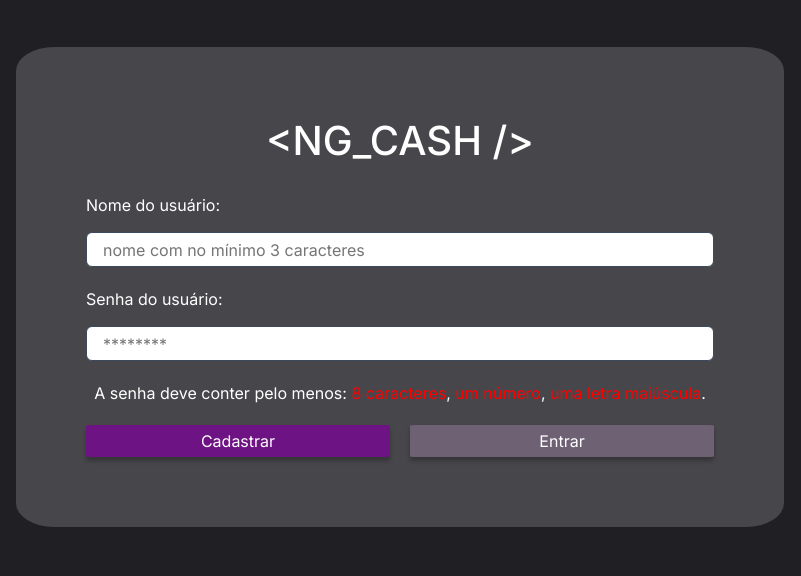
Testes da tela de Login › Verifica a renderização da mensagem de usuário inválido
Check: the password field with test id "login-password" is shown, box [86,326,714,361]
Type "wrong-user" into the field with test id "login-username" at (400, 250), box [86,232,714,267]
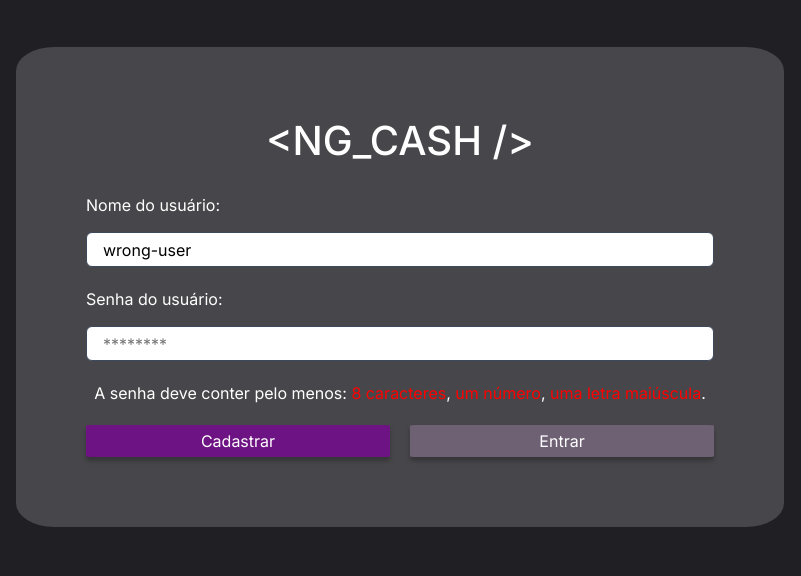
Type "user1234Wrong" into the password field with test id "login-password" at (400, 344), box [86,326,714,361]
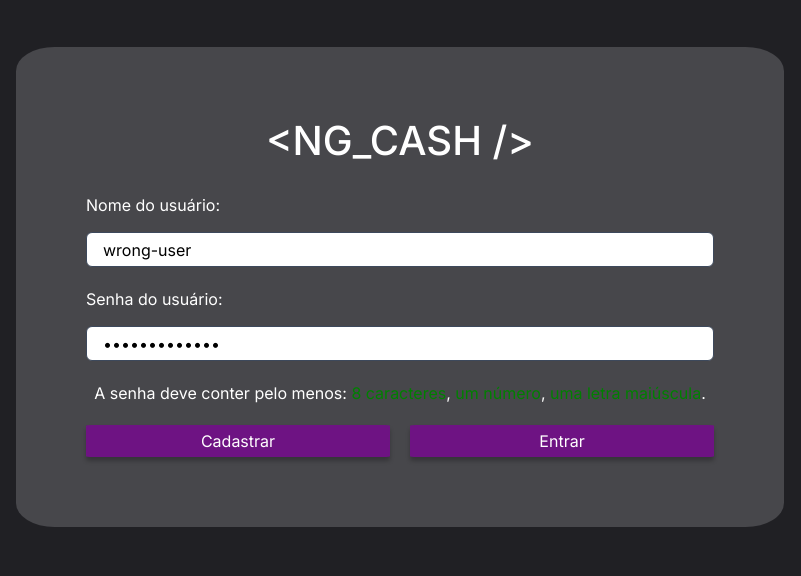
Click the button with test id "login-button" at (562, 441), box [410,425,714,457]
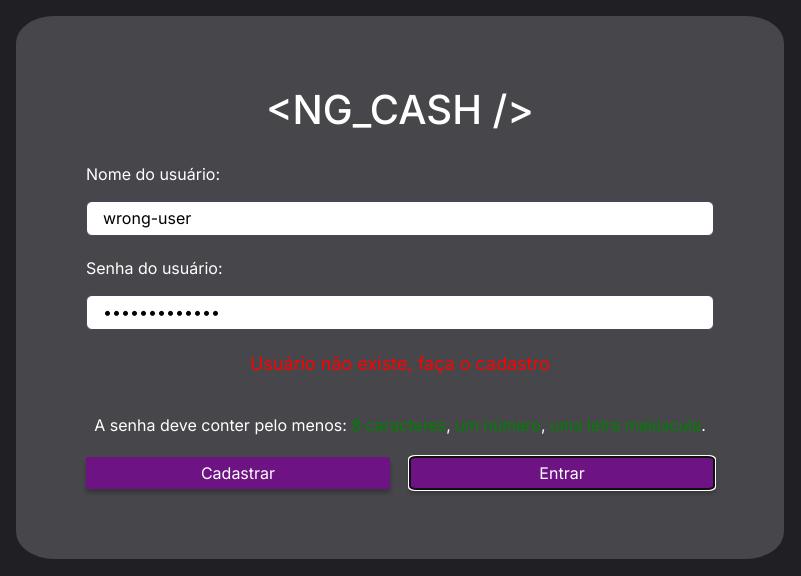
Check: the text "Usuário não existe, faça o cadastro" is shown, box [250,350,550,376]
